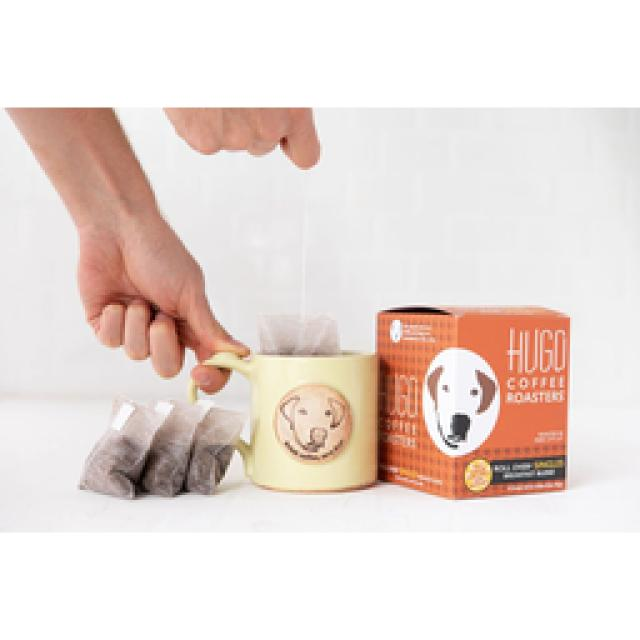tea-bags: (80, 385, 250, 498), (260, 315, 338, 352)
